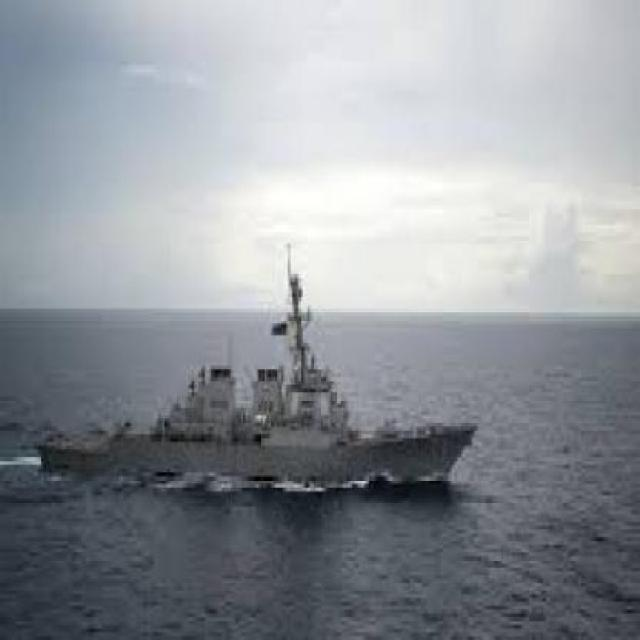warship2: (13, 233, 481, 512)
